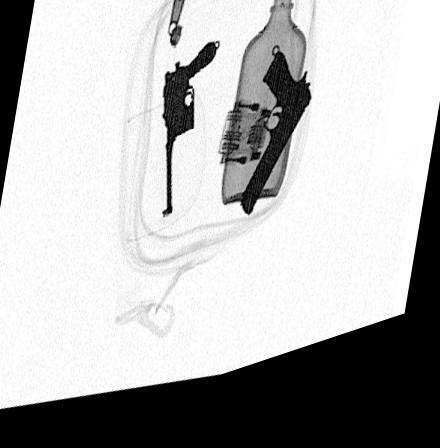Gun: (239, 68, 311, 233), (160, 54, 216, 227)
